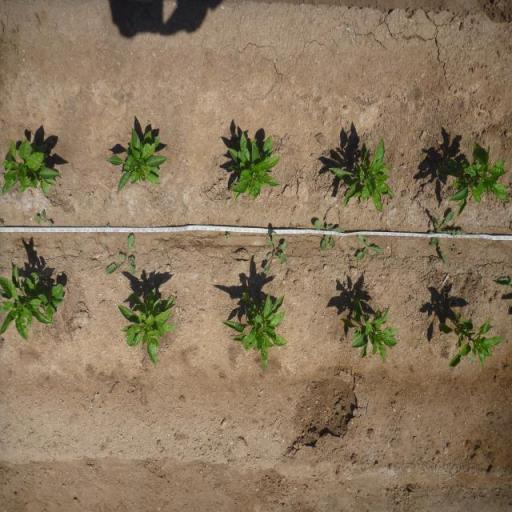plant: (220, 288, 290, 374), (435, 138, 512, 212), (327, 135, 395, 214), (0, 262, 65, 341), (118, 286, 178, 368), (104, 124, 169, 196), (436, 310, 506, 374), (225, 129, 282, 204), (340, 297, 400, 365), (0, 138, 63, 196)
weed: (426, 209, 468, 268), (102, 232, 136, 276), (262, 231, 290, 277), (313, 218, 346, 252), (355, 234, 385, 262), (33, 208, 53, 227), (224, 230, 232, 240), (451, 243, 458, 252), (236, 218, 241, 225), (290, 222, 294, 229)
